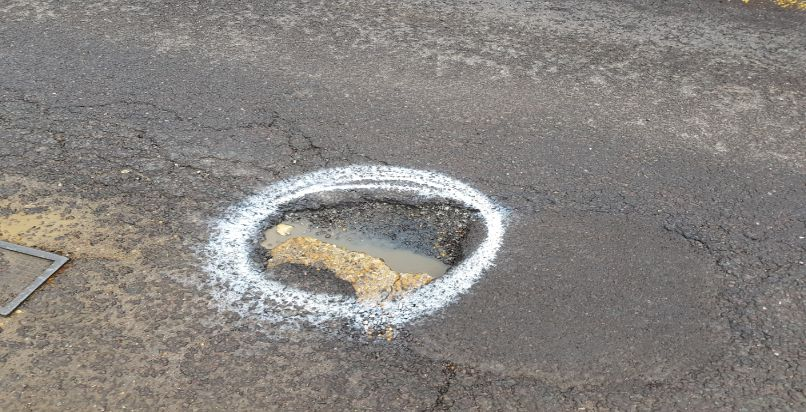pothole: (249, 192, 481, 316)
